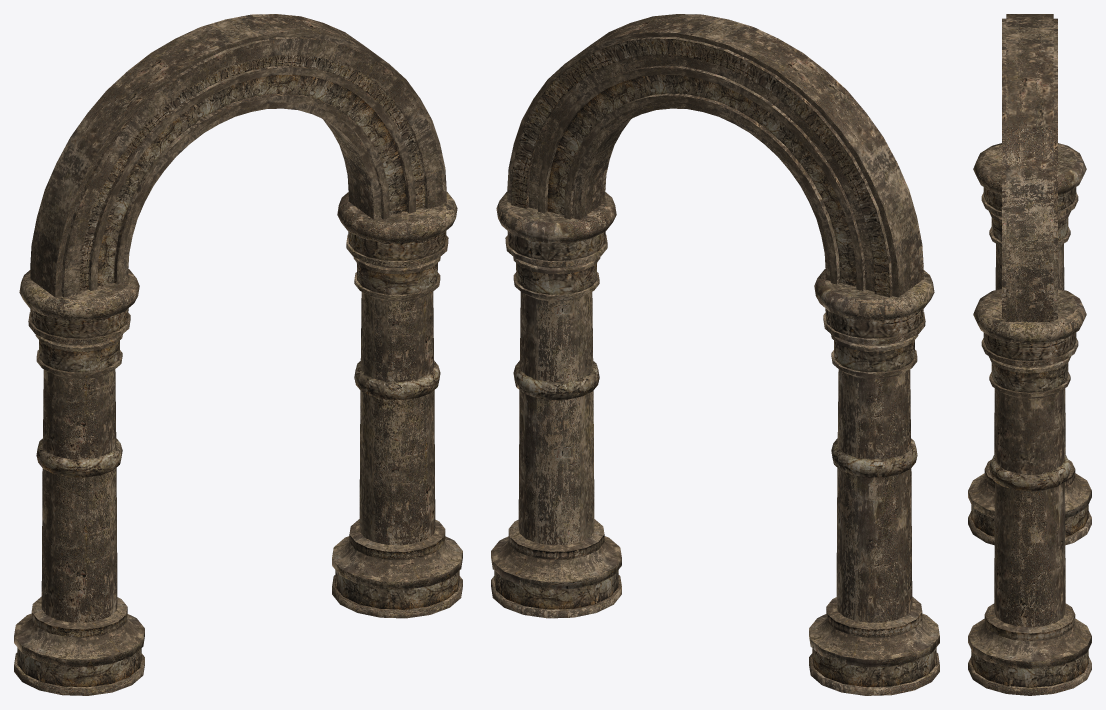
Rendered from materials_5_gate_10.fbx.
3 renders of one model, left to right at view 1: azimuth 30°, elevation 25°; view 2: azimuth 150°, elevation 25°; view 3: azimuth 270°, elevation 25°, orthographic. The views are drawn at different scales.
Parts seen in each view (by area): view 1: materials_5_gate_10; view 2: materials_5_gate_10; view 3: materials_5_gate_10.
Part boxes in pixels (left/top/right/bottom): materials_5_gate_10: left=14, top=14, right=462, bottom=695; materials_5_gate_10: left=491, top=14, right=939, bottom=695; materials_5_gate_10: left=968, top=14, right=1091, bottom=695.
Size of the model in its own units: 184 by 245 by 48.73.
